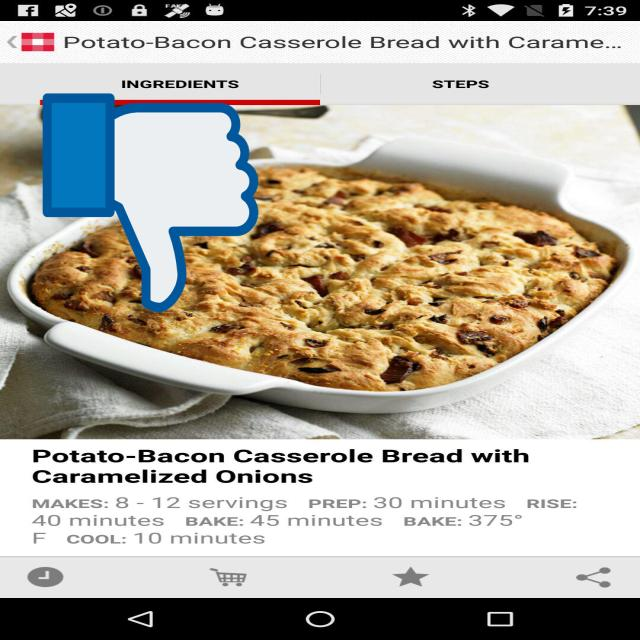obstruction: (43, 89, 258, 317)
